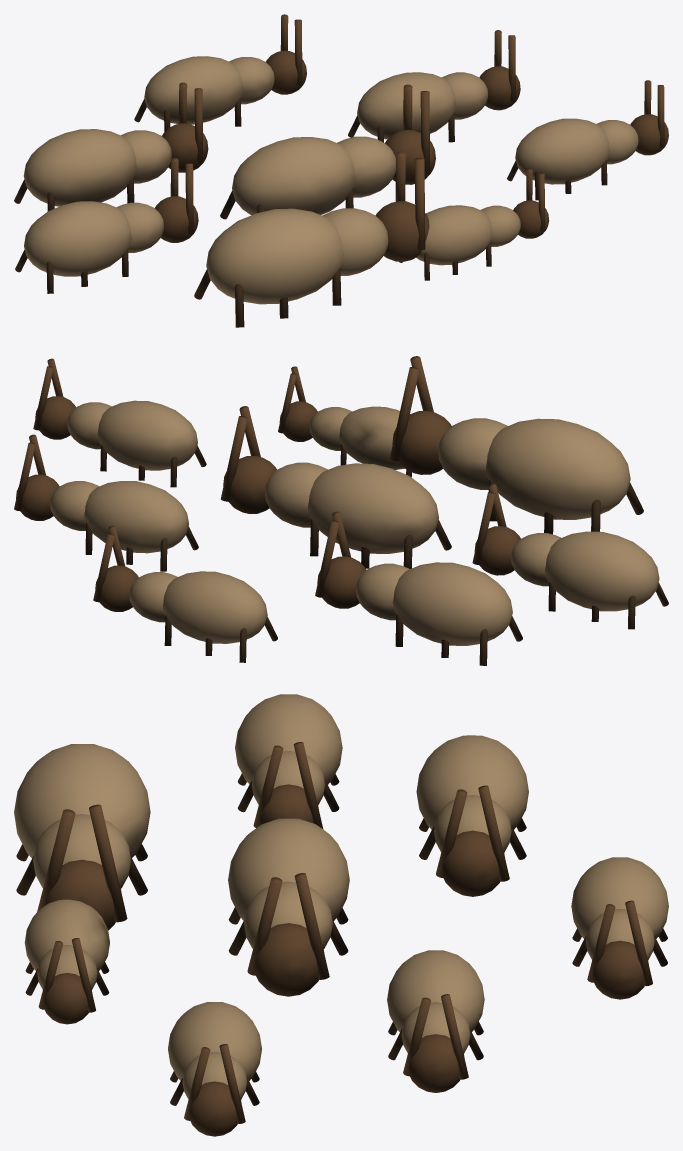
Rendered from termite-swarm.obj.
The picture shows the model from 3 angles, top to bottom: view 1: azimuth 30°, elevation 25°; view 2: azimuth 150°, elevation 25°; view 3: azimuth 270°, elevation 25°; orthographic projection. The views are drawn at different scales.
Parts seen in each view (by area): view 1: termite-swarm; view 2: termite-swarm; view 3: termite-swarm.
Part boxes in pixels (x1,y1,x2,y2): termite-swarm: (14, 14, 668, 327); termite-swarm: (14, 356, 668, 665); termite-swarm: (14, 694, 668, 1136).
Size of the model in its own units: 1.27 by 0.2218 by 0.8886.
